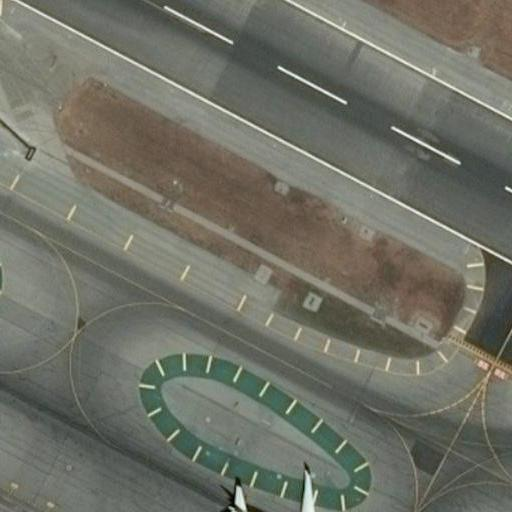Aircraft: (209, 467, 368, 512)
